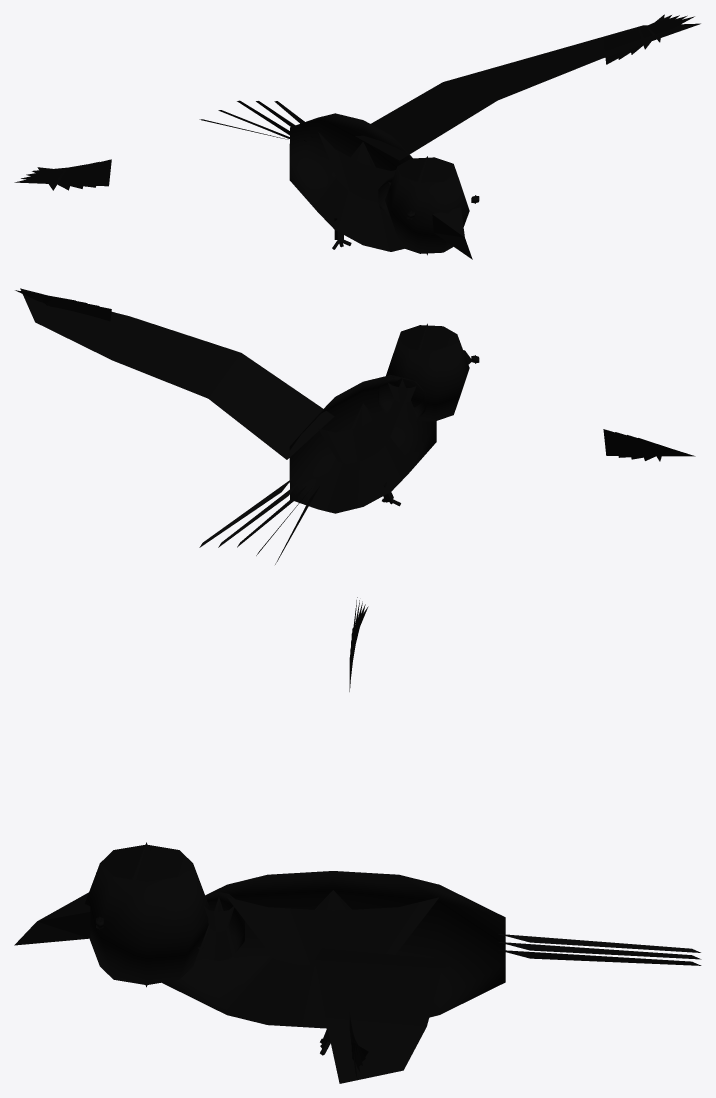
The model's file is gliding_04.glb.
3 renders of one model, top to bottom at view 1: azimuth 30°, elevation 25°; view 2: azimuth 150°, elevation 25°; view 3: azimuth 270°, elevation 25°, orthographic. The views are drawn at different scales.
Visible parts, largest first — view 1: RaptorBody; view 2: RaptorBody; view 3: RaptorBody.
Boxes of the visible parts, left/top/right/bottom form: RaptorBody: left=14, top=14, right=700, bottom=259; RaptorBody: left=15, top=288, right=695, bottom=564; RaptorBody: left=14, top=597, right=701, bottom=1083.
Size of the model in its own units: 2.71 by 0.5392 by 1.62.
7 materials, 7 textured.
